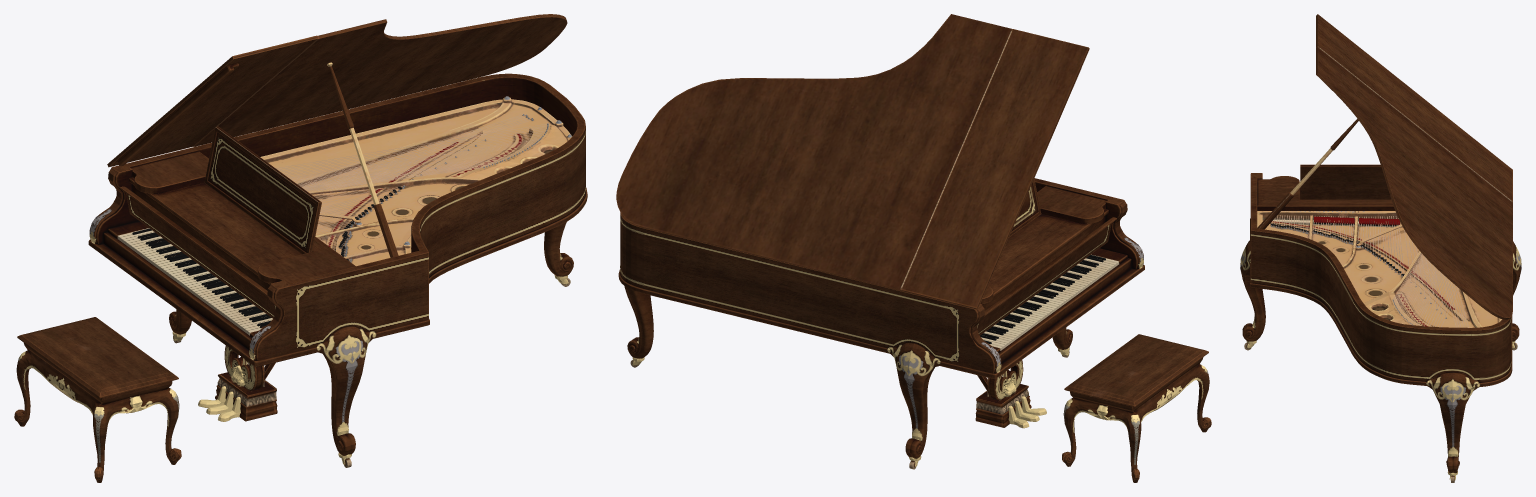
File: N9GPRNXRG56CC8QR24B83Q895.fbx
The picture shows the model from 3 angles, left to right: view 1: azimuth 30°, elevation 25°; view 2: azimuth 150°, elevation 25°; view 3: azimuth 270°, elevation 25°; orthographic projection. The views are drawn at different scales.
Visible parts, largest first — view 1: Object_PIANO_BASE, Object_PIANO_INTERIOR, Object_GRAND_PIANO__STO; view 2: Object_PIANO_BASE, Object_GRAND_PIANO__STO; view 3: Object_PIANO_BASE, Object_PIANO_INTERIOR.
Part boxes in pixels (box(x1,y1,x2,y2)): Object_PIANO_BASE: box(88, 14, 587, 467); Object_PIANO_INTERIOR: box(260, 62, 572, 266); Object_GRAND_PIANO__STO: box(14, 317, 181, 482); Object_PIANO_BASE: box(616, 14, 1144, 469); Object_GRAND_PIANO__STO: box(1062, 334, 1211, 482); Object_PIANO_BASE: box(1240, 14, 1521, 482); Object_PIANO_INTERIOR: box(1257, 119, 1501, 327).
Size of the model in its own units: 2.5 by 1.67 by 1.38.
